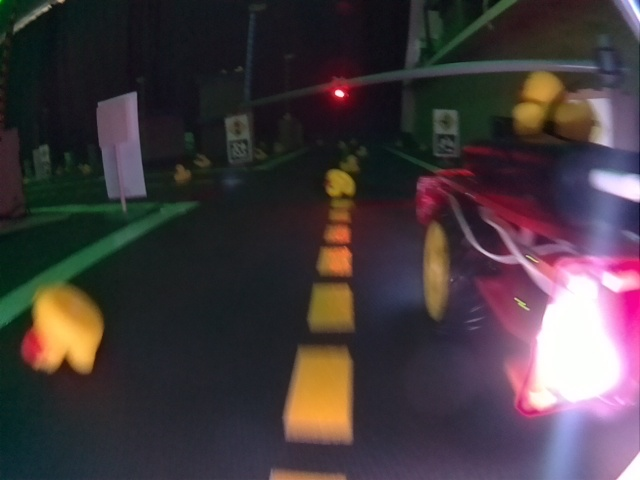Duckie: (26, 288, 103, 372), (513, 73, 594, 140), (325, 171, 355, 194), (341, 157, 359, 173), (175, 164, 190, 182), (195, 155, 208, 165), (359, 146, 366, 156)
Duckiebot: (416, 129, 639, 420)
Intersection sign: (435, 114, 456, 132)
QR code: (434, 133, 457, 154), (228, 139, 248, 161)
Signal sign: (226, 117, 247, 136)
Traffic light: (331, 85, 347, 99)
